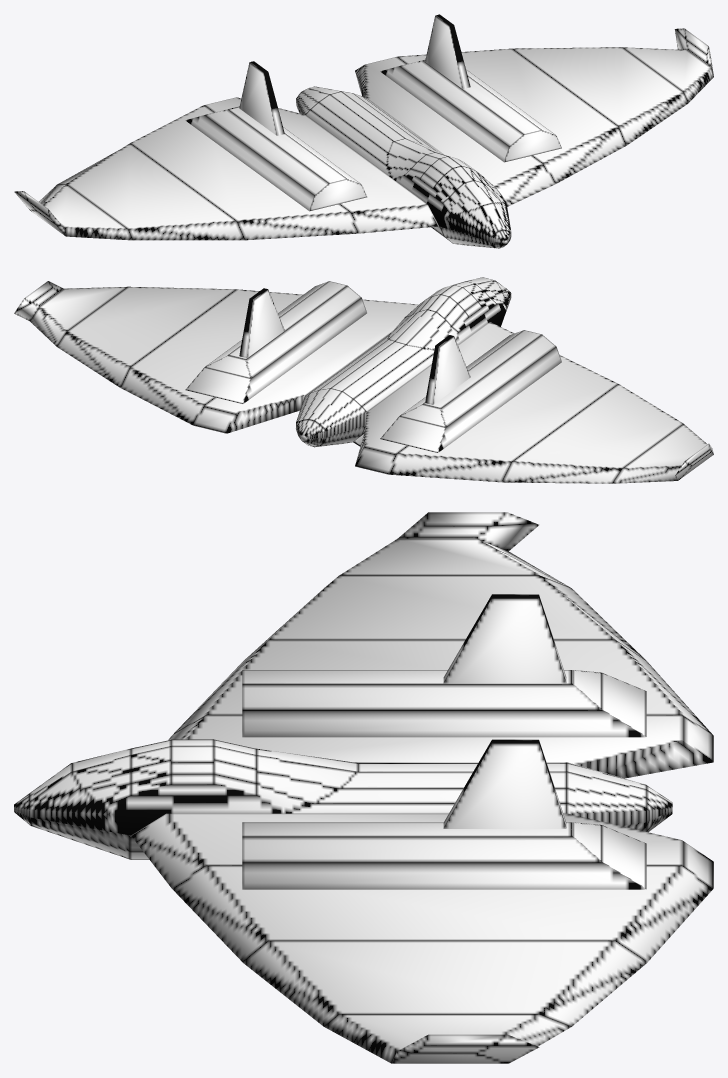
File: spirit.obj
The picture shows the model from 3 angles, top to bottom: view 1: azimuth 30°, elevation 25°; view 2: azimuth 150°, elevation 25°; view 3: azimuth 270°, elevation 25°; orthographic projection. The views are drawn at different scales.
Parts seen in each view (by area): view 1: wingl, wingr, fuselage, enginel, enginer, finr, finl; view 2: wingl, wingr, fuselage, enginel, enginer, finl, finr; view 3: wingr, wingl, fuselage, enginer, enginel, finl, finr.
Part boxes in pixels (bbox=[...]): wingl: bbox=[14, 97, 438, 240]; wingr: bbox=[355, 28, 713, 206]; fuselage: bbox=[296, 86, 511, 248]; enginel: bbox=[185, 106, 366, 211]; enginer: bbox=[380, 59, 561, 162]; finr: bbox=[425, 14, 470, 88]; finl: bbox=[239, 61, 284, 135]; wingl: bbox=[355, 322, 713, 483]; wingr: bbox=[14, 281, 418, 433]; fuselage: bbox=[296, 277, 511, 447]; enginel: bbox=[380, 330, 561, 452]; enginer: bbox=[185, 281, 366, 403]; finl: bbox=[425, 335, 470, 404]; finr: bbox=[239, 288, 284, 357]; wingr: bbox=[131, 813, 713, 1063]; wingl: bbox=[168, 512, 713, 778]; fuselage: bbox=[14, 739, 672, 859]; enginer: bbox=[242, 822, 646, 889]; enginel: bbox=[242, 670, 646, 737]; finl: bbox=[443, 594, 566, 683]; finr: bbox=[443, 739, 566, 828].
Bounding box in the file's own units: 94.53 × 16.59 × 53.31.
